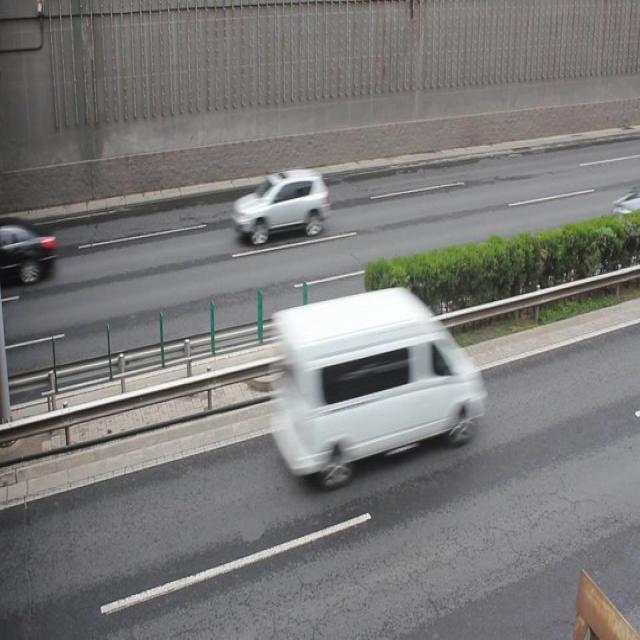car: (232, 170, 326, 242), (1, 216, 55, 283)
truck: (270, 284, 480, 480)
